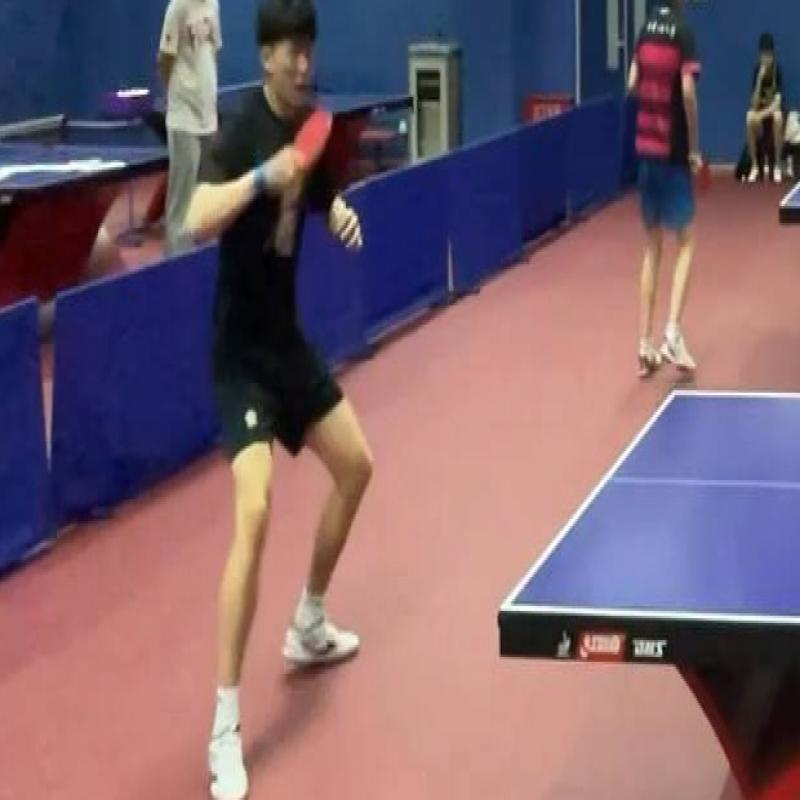bats: (281, 104, 338, 175)
